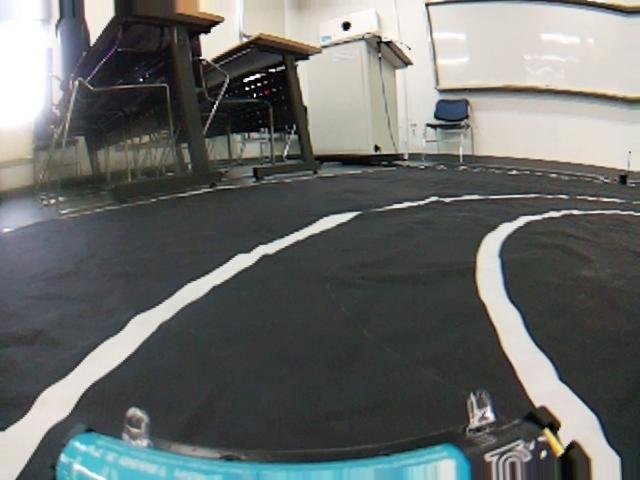right: (2, 187, 635, 480)
